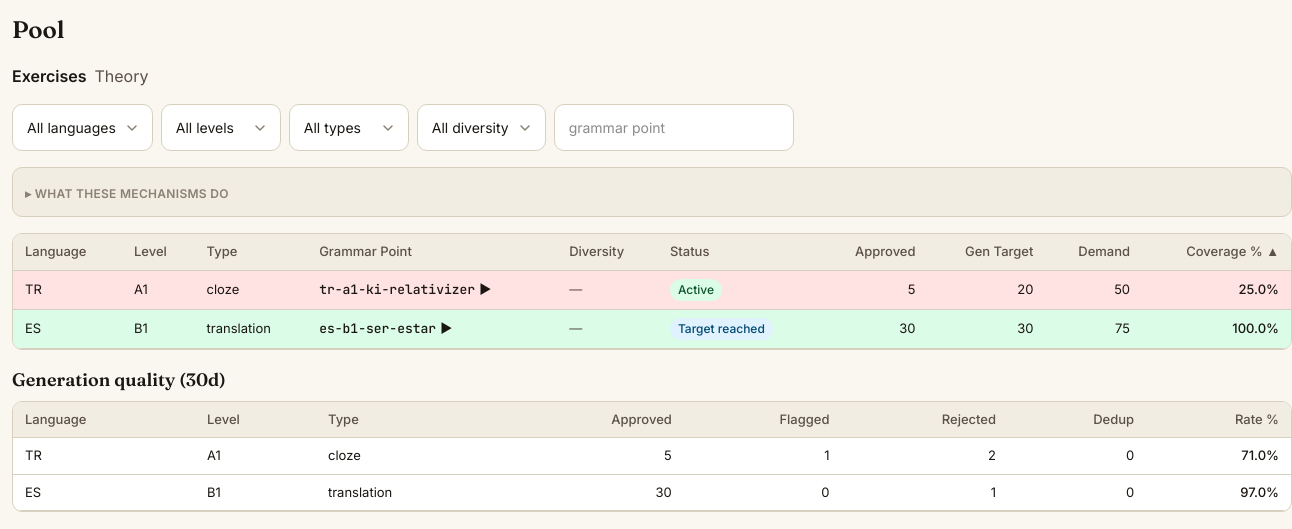
Test case: PoolPage — diversity mechanisms › says it is still loading rather than reporting an empty result
This screenshot has width=1292, height=529.
Select "no mechanism at all" in the dropdown named "diversity" at (481, 128), box [417,104,546,151]
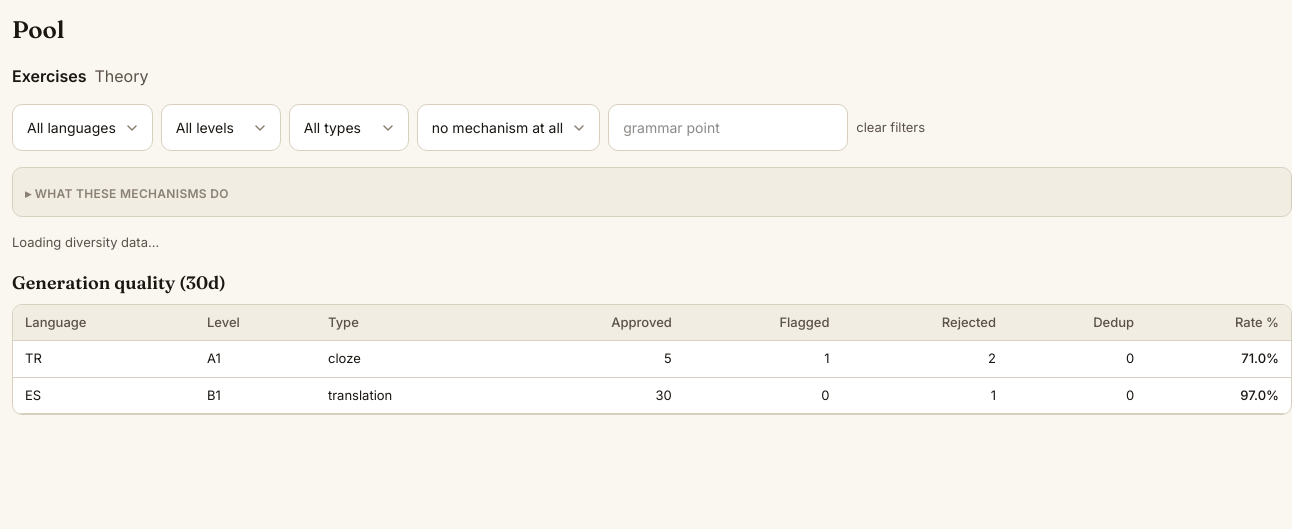
Check: the text "Loading diversity data…" is shown, box [12,234,159,250]
